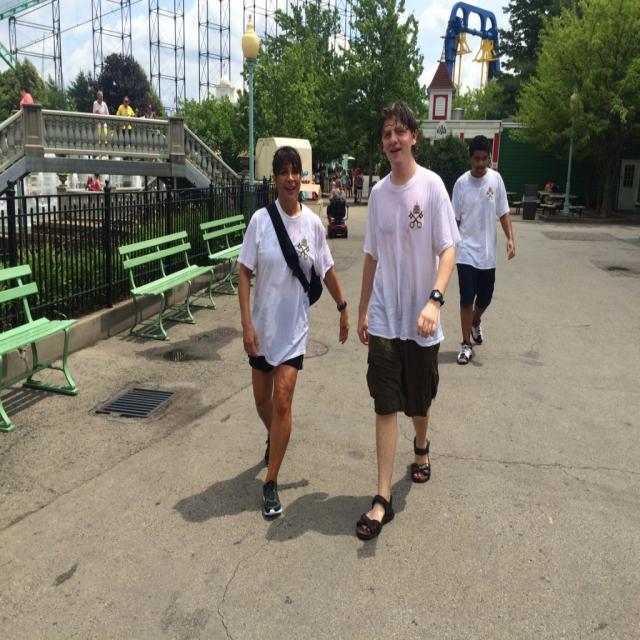body: (352, 96, 463, 542), (234, 140, 352, 520), (449, 132, 516, 368), (311, 164, 377, 198), (115, 94, 139, 163), (92, 89, 110, 161), (144, 101, 158, 162), (540, 178, 560, 208), (19, 83, 34, 121), (355, 169, 364, 206), (353, 163, 361, 204), (83, 173, 96, 191), (331, 178, 344, 192), (93, 172, 101, 192)
